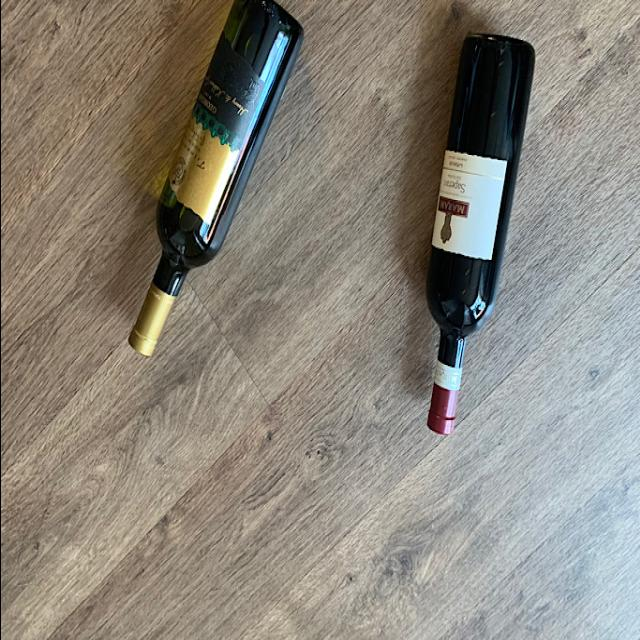Glass Bottle: (125, 0, 308, 369), (419, 29, 541, 442)
